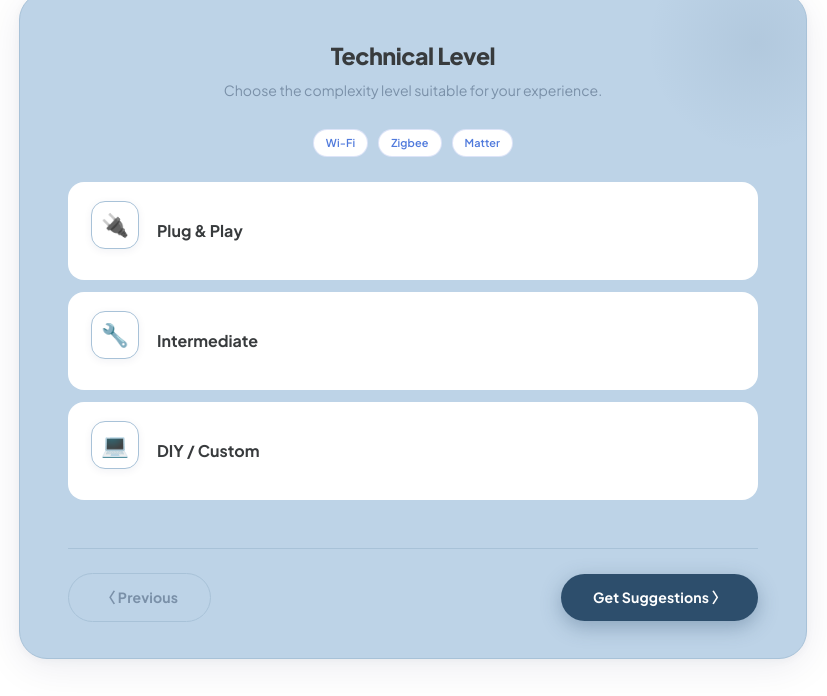
SetupWizard › SuggestedProductsView › shows AI panel after submitting a prompt
(page scrolled)
Click the button "Get Suggestions 〉": (659,597) [561, 574, 758, 621]
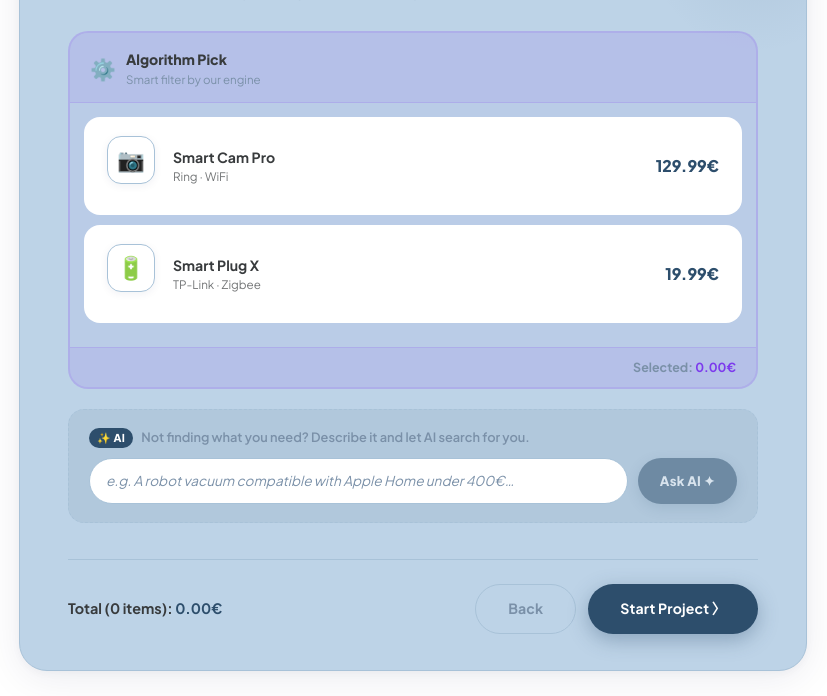
Now the text "Smart Cam Pro" is shown, box [173, 148, 275, 166]
In the field with placeholder "e.g. A robot vacuum compatible with Apple Home under 400€…": (358,481) [89, 458, 628, 504], type "robot vacuum under 300"
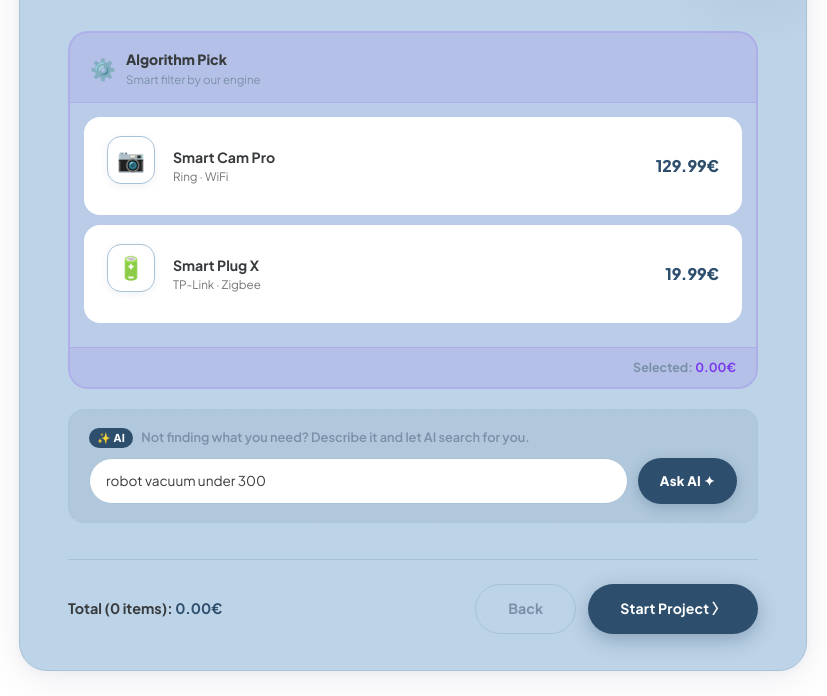
Click the button "Ask AI ✦": (687,481) [638, 458, 737, 504]
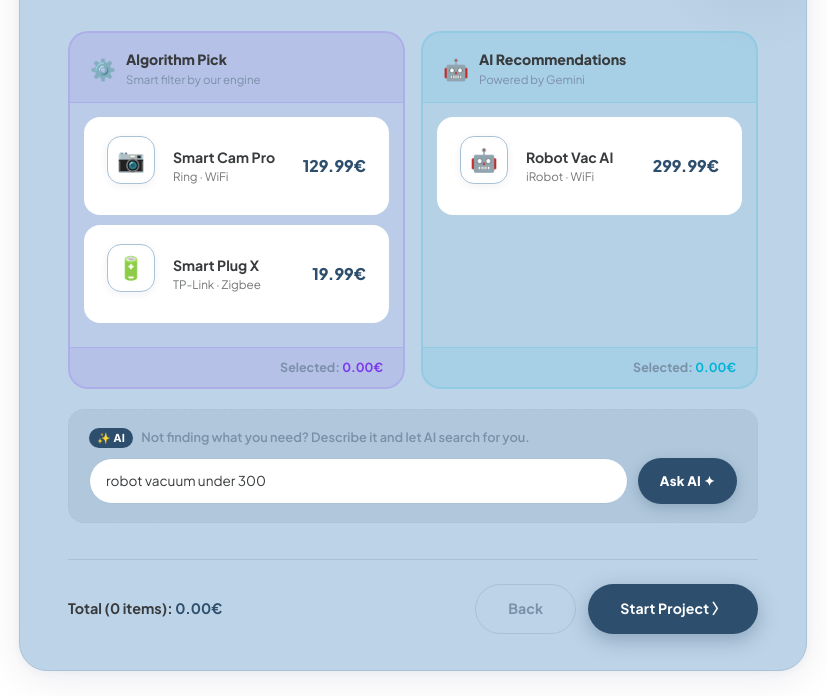
Now the text "AI Recommendations" is shown, box [479, 49, 626, 70]
Now the text "Robot Vac AI" is shown, box [526, 148, 613, 166]
